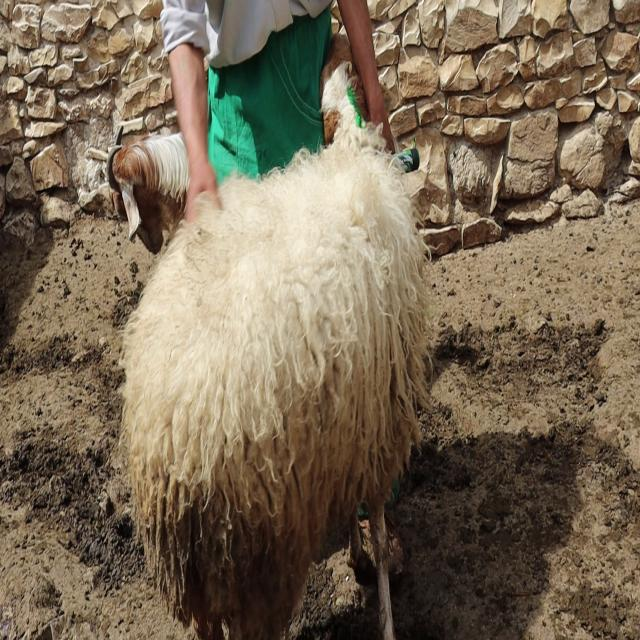Score_4: (121, 34, 431, 639)
